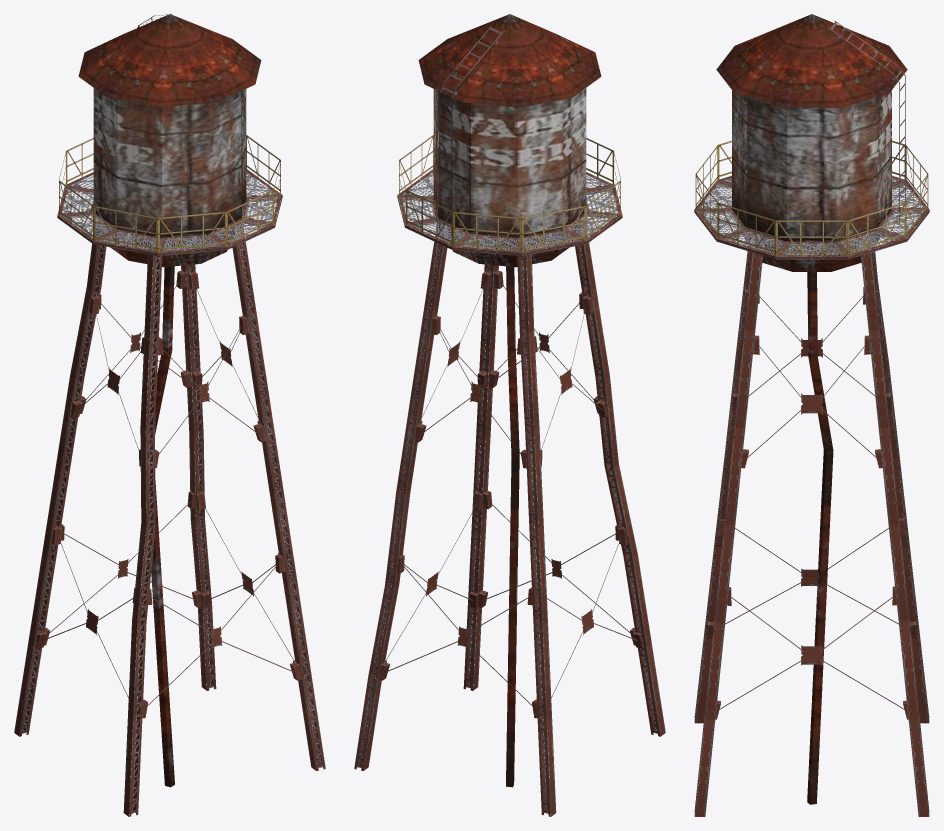
The model's file is water-tower.glb.
3 views of the same model, side by side, from view 1: azimuth 30°, elevation 25°; view 2: azimuth 150°, elevation 25°; view 3: azimuth 270°, elevation 25° (orthographic). The views are drawn at different scales.
Visible parts, largest first — view 1: WaterTower_02_water_Tower_Diff_0, WaterTower_beams_water_Tower_Transparency_0, metalFrame_water_Tower_Transparency_0, WaterTower_WalkWay_water_Tower_Transparency_0, WaterTower_Pipe_water_Tower_Diff_0, WaterTower_01_water_Tower_Transparency_0; view 2: WaterTower_02_water_Tower_Diff_0, WaterTower_beams_water_Tower_Transparency_0, metalFrame_water_Tower_Transparency_0, WaterTower_WalkWay_water_Tower_Transparency_0, WaterTower_Pipe_water_Tower_Diff_0, WaterTower_01_water_Tower_Transparency_0, WaterTower_Ladder_water_Tower_Transparency_0; view 3: WaterTower_02_water_Tower_Diff_0, WaterTower_beams_water_Tower_Transparency_0, WaterTower_WalkWay_water_Tower_Transparency_0, WaterTower_Pipe_water_Tower_Diff_0, metalFrame_water_Tower_Transparency_0, WaterTower_01_water_Tower_Transparency_0, WaterTower_Ladder_water_Tower_Transparency_0.
Boxes of the visible parts, bbox=[...] form: WaterTower_02_water_Tower_Diff_0: bbox=[78, 14, 261, 267]; WaterTower_beams_water_Tower_Transparency_0: bbox=[14, 223, 325, 816]; metalFrame_water_Tower_Transparency_0: bbox=[35, 270, 304, 718]; WaterTower_WalkWay_water_Tower_Transparency_0: bbox=[57, 169, 282, 256]; WaterTower_Pipe_water_Tower_Diff_0: bbox=[145, 266, 174, 787]; WaterTower_01_water_Tower_Transparency_0: bbox=[59, 135, 280, 252]; WaterTower_02_water_Tower_Diff_0: bbox=[418, 14, 601, 267]; WaterTower_beams_water_Tower_Transparency_0: bbox=[354, 221, 665, 816]; metalFrame_water_Tower_Transparency_0: bbox=[375, 270, 644, 718]; WaterTower_WalkWay_water_Tower_Transparency_0: bbox=[397, 169, 622, 256]; WaterTower_Pipe_water_Tower_Diff_0: bbox=[506, 266, 519, 787]; WaterTower_01_water_Tower_Transparency_0: bbox=[399, 135, 620, 252]; WaterTower_Ladder_water_Tower_Transparency_0: bbox=[439, 26, 503, 235]; WaterTower_02_water_Tower_Diff_0: bbox=[716, 14, 907, 271]; WaterTower_beams_water_Tower_Transparency_0: bbox=[694, 237, 929, 816]; WaterTower_WalkWay_water_Tower_Transparency_0: bbox=[694, 175, 929, 259]; WaterTower_Pipe_water_Tower_Diff_0: bbox=[807, 272, 833, 804]; metalFrame_water_Tower_Transparency_0: bbox=[706, 287, 917, 719]; WaterTower_01_water_Tower_Transparency_0: bbox=[695, 140, 928, 256]; WaterTower_Ladder_water_Tower_Transparency_0: bbox=[829, 20, 905, 222].
Bounding box in the file's own units: 6.63 × 24.83 × 6.71.
2 materials, 2 textured.
